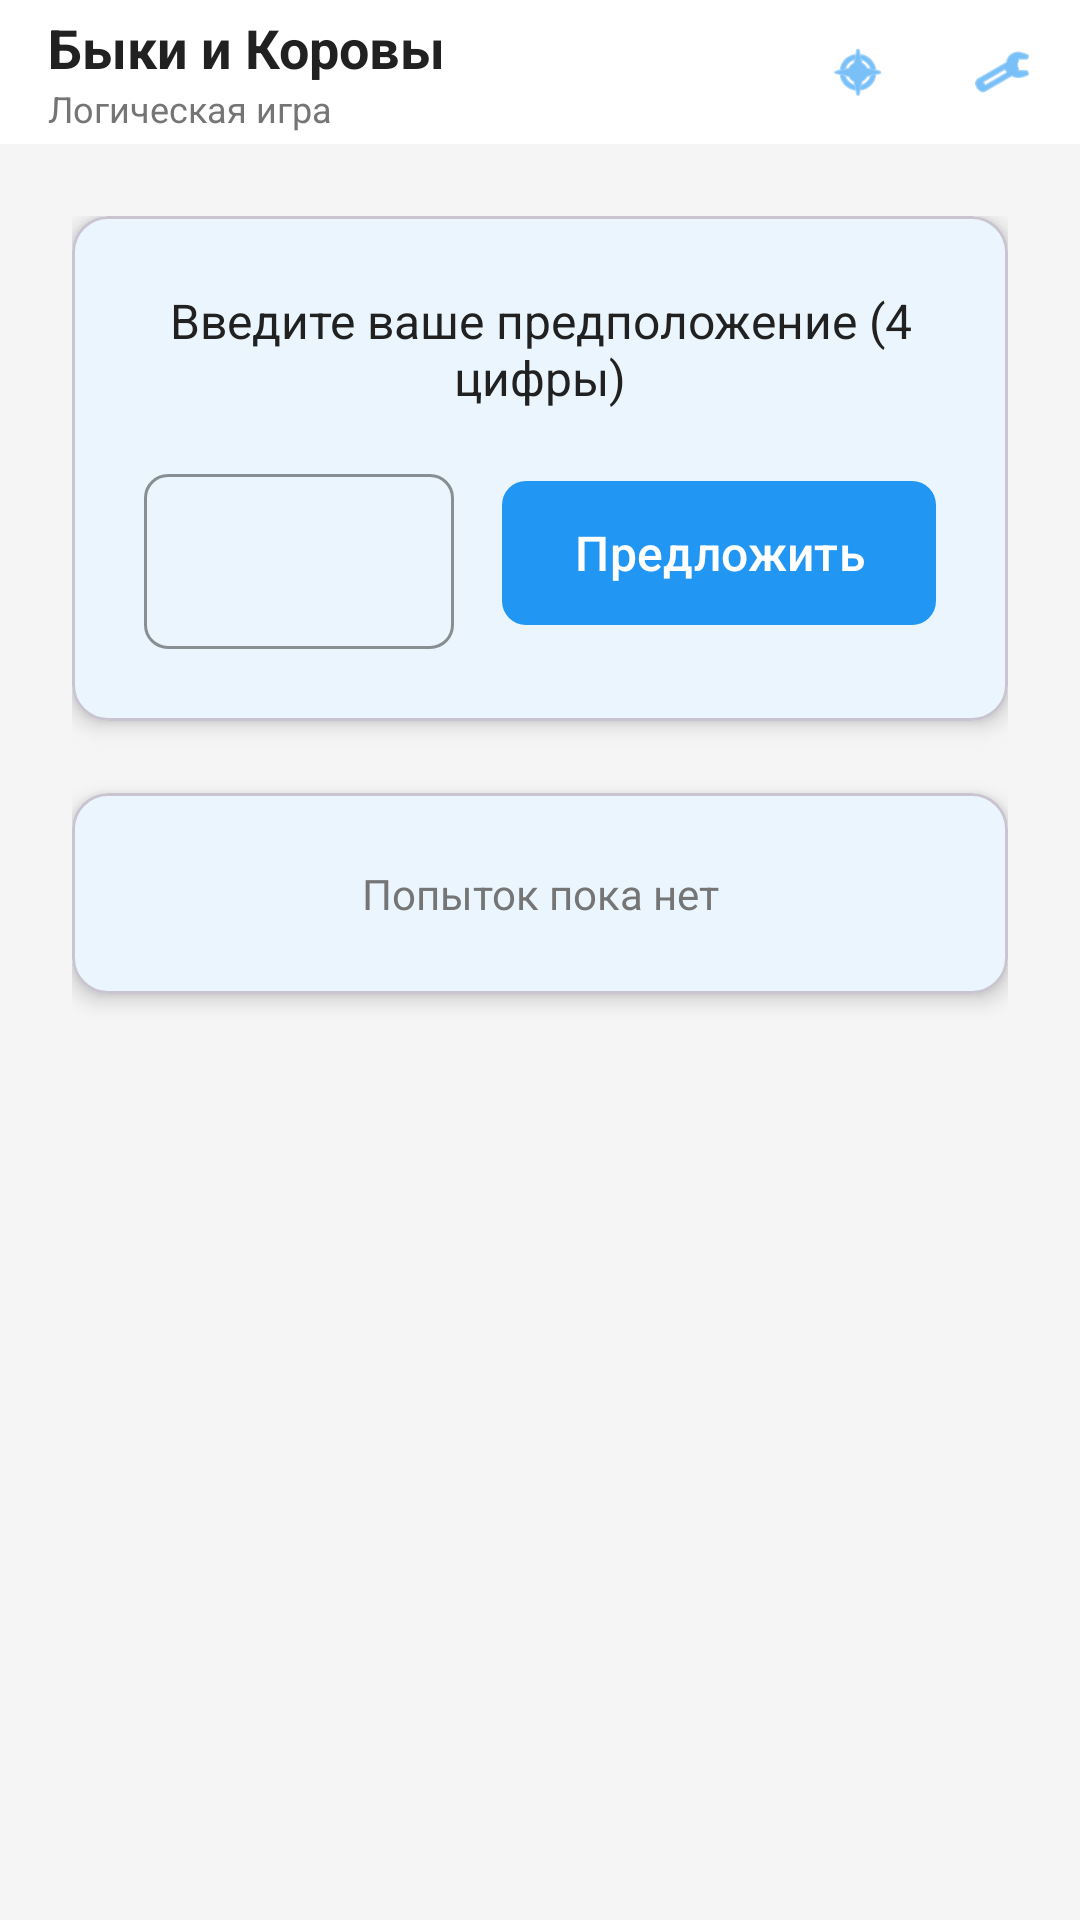

Icon click points for this 1080x1920 phone screenshot, format (x=x, y=y):
manage: (x=1002, y=72)
